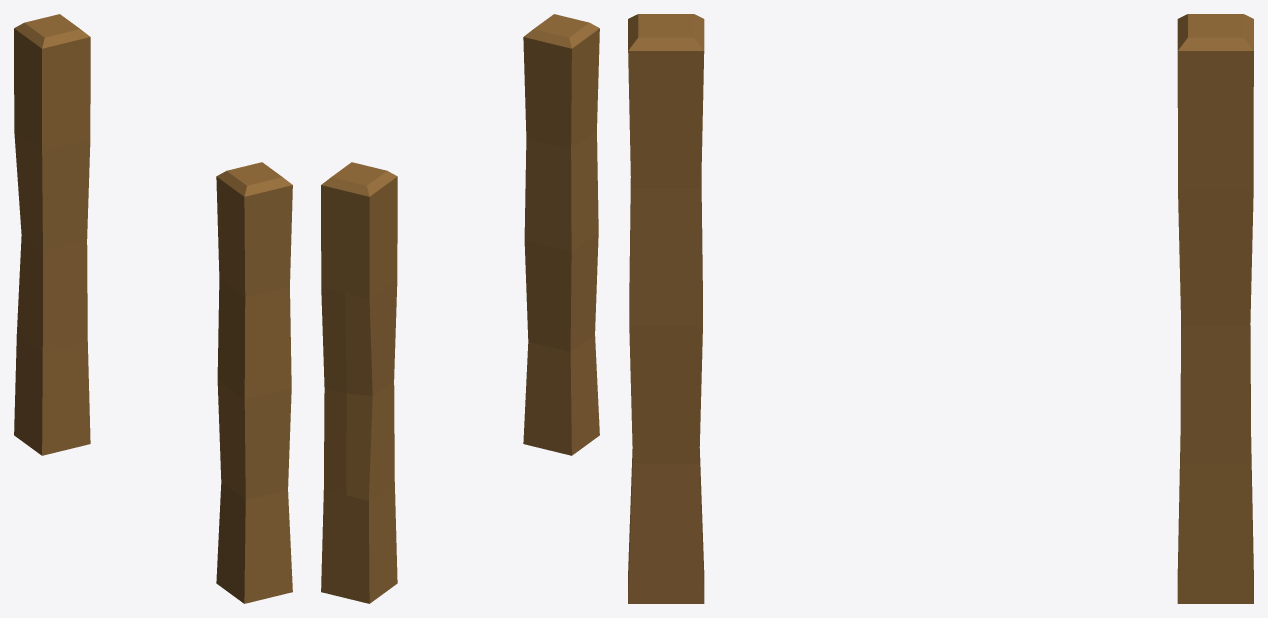
Rendered from env_palos_puente.fbx.
3 views of the same model, side by side, from view 1: azimuth 30°, elevation 25°; view 2: azimuth 150°, elevation 25°; view 3: azimuth 270°, elevation 25° (orthographic). The views are drawn at different scales.
Parts seen in each view (by area): view 1: env_palos_puente; view 2: env_palos_puente; view 3: env_palos_puente.
Part boxes in pixels (x1=…): env_palos_puente: x1=14, y1=14, x2=292, y2=603; env_palos_puente: x1=321, y1=14, x2=599, y2=603; env_palos_puente: x1=628, y1=14, x2=1253, y2=603.
Bounding box in the file's own units: 1.03 × 8.39 × 8.46.
